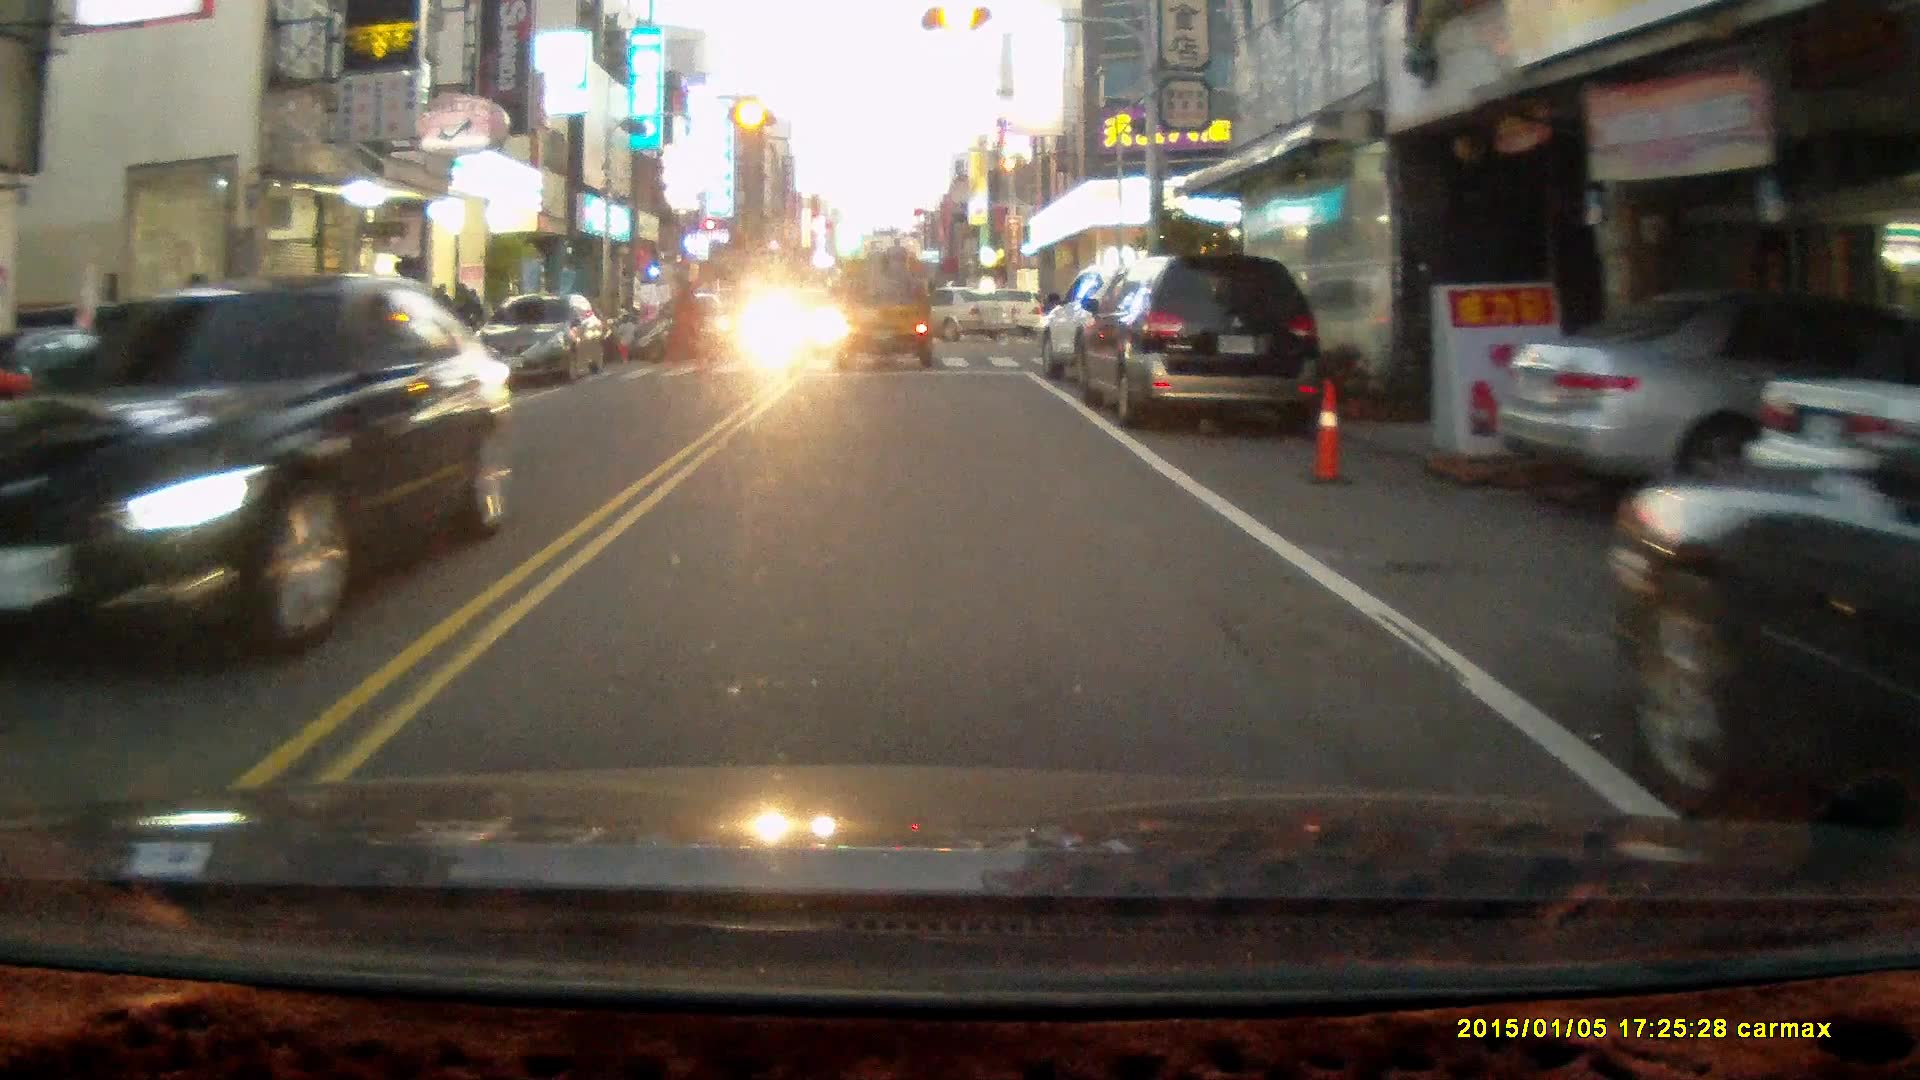pedestrian: (667, 277, 703, 374), (612, 312, 636, 364)
vehicle: (11, 275, 527, 684), (1604, 366, 1920, 834), (1492, 291, 1920, 524), (1074, 250, 1325, 434), (1746, 376, 1920, 548), (1040, 257, 1213, 404), (830, 238, 939, 374), (492, 296, 605, 389), (863, 286, 1011, 344), (649, 298, 740, 361)
